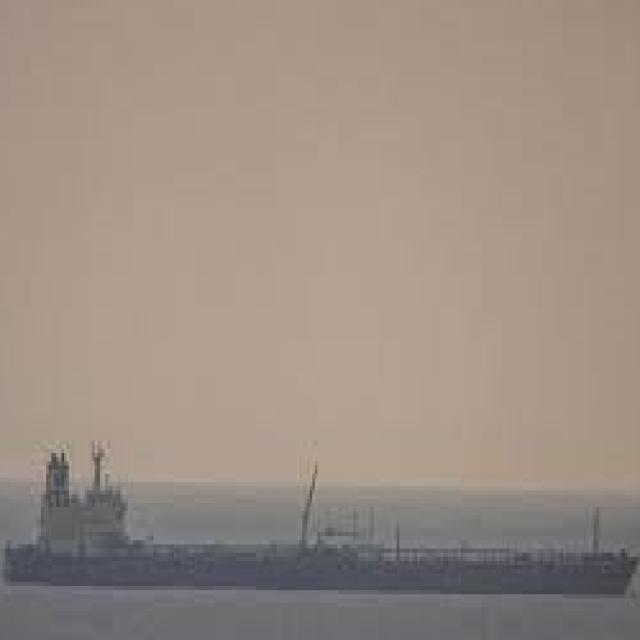cargoship: (0, 432, 637, 606)
